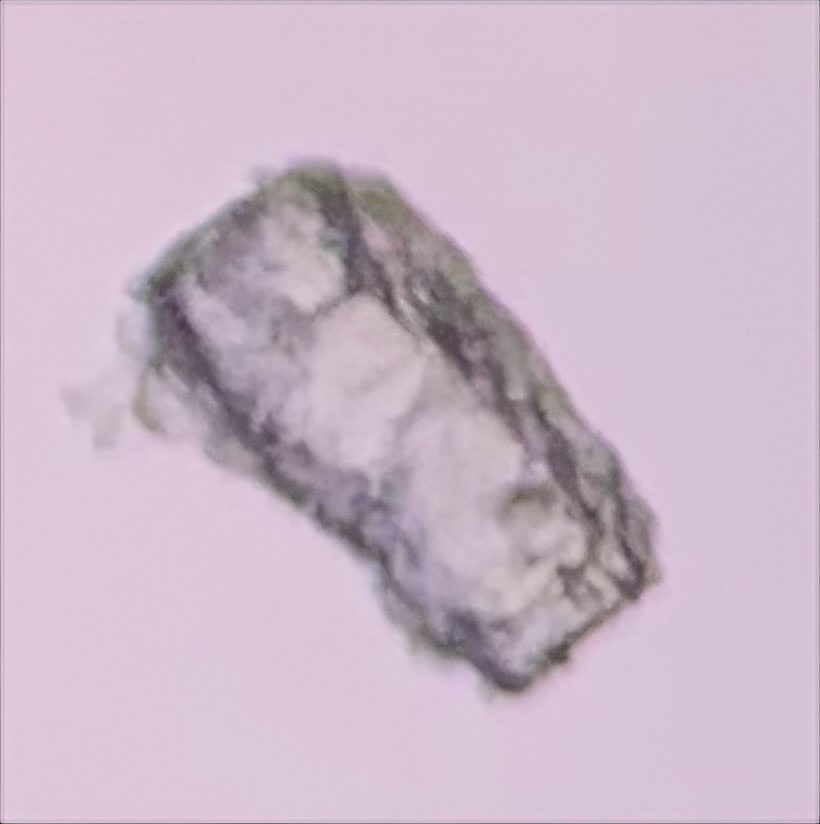microplastic: (115, 148, 668, 701)
